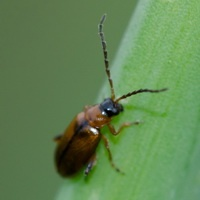insect: (55, 15, 167, 176)
